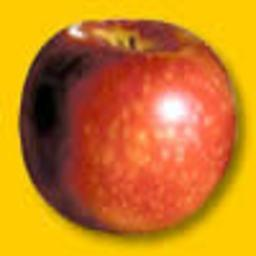apple: (19, 17, 239, 240)
